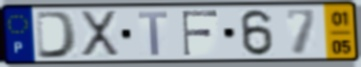6: (239, 7, 275, 58)
7: (285, 7, 318, 57)
D: (34, 10, 80, 60)
F: (180, 9, 220, 58)
T: (136, 10, 171, 58)
X: (78, 9, 122, 59)
